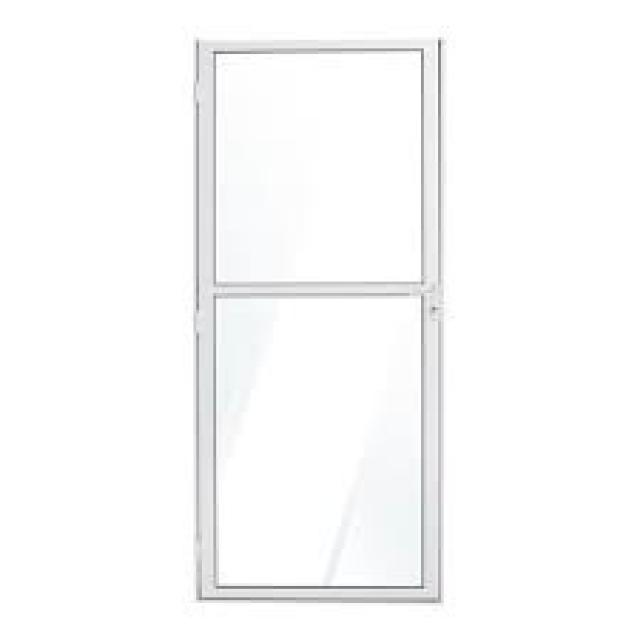door: (195, 41, 442, 604)
